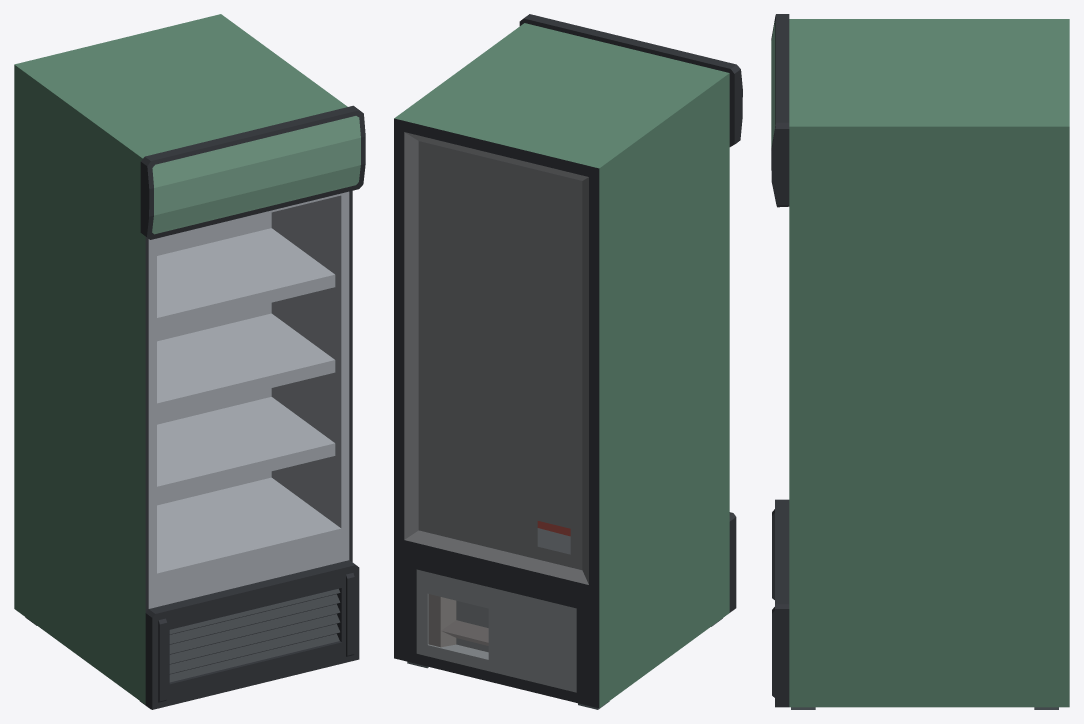
The model's file is SM_Prop_Market_Drinks_Fridge_02.obj.
3 views of the same model, side by side, from view 1: azimuth 30°, elevation 25°; view 2: azimuth 150°, elevation 25°; view 3: azimuth 270°, elevation 25° (orthographic). The views are drawn at different scales.
Parts seen in each view (by area): view 1: SM_Prop_Market_Drinks_Fridge_02_0; view 2: SM_Prop_Market_Drinks_Fridge_02_0; view 3: SM_Prop_Market_Drinks_Fridge_02_0.
Boxes of the visible parts, box(x1,y1,x2,y2) form: SM_Prop_Market_Drinks_Fridge_02_0: box(14, 14, 365, 709); SM_Prop_Market_Drinks_Fridge_02_0: box(394, 14, 742, 709); SM_Prop_Market_Drinks_Fridge_02_0: box(771, 14, 1069, 709).
Size of the model in its own units: 0.9378 by 2.3 by 1.05.
1 material, 1 textured.
